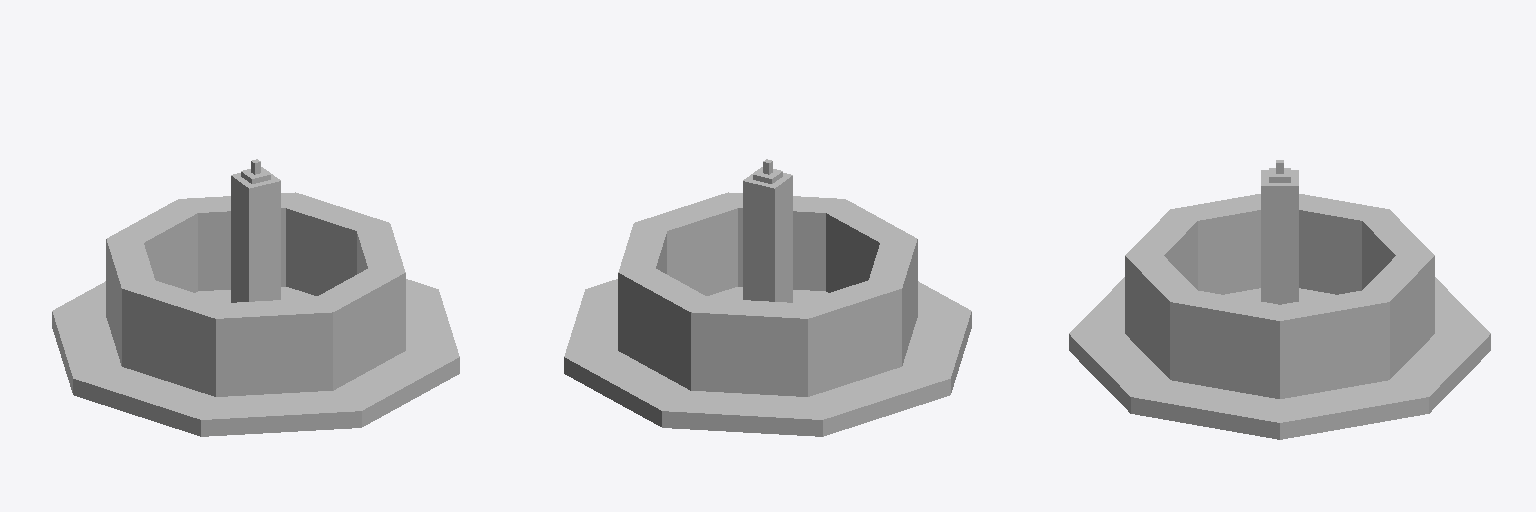
File: brunnen1.obj
The picture shows the model from 3 angles: view 1: azimuth 30°, elevation 25°; view 2: azimuth 150°, elevation 25°; view 3: azimuth 270°, elevation 25°; orthographic projection.
Parts seen in each view (by area): view 1: Tube4, Cylinder6, Cube7; view 2: Tube4, Cylinder6, Cube7; view 3: Tube4, Cylinder6, Cube7.
Boxes of the visible parts, <box> form: Tube4: <box>106,192,405,396</box>; Cylinder6: <box>52,279,459,436</box>; Cube7: <box>231,159,280,302</box>; Tube4: <box>618,192,917,396</box>; Cylinder6: <box>564,279,971,436</box>; Cube7: <box>743,159,792,302</box>; Tube4: <box>1125,194,1434,398</box>; Cylinder6: <box>1069,277,1490,439</box>; Cube7: <box>1261,160,1298,304</box>.
Size of the model in its own units: 3.41 by 1.69 by 3.41.